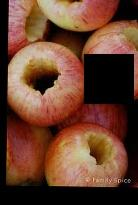rotten apple: (7, 41, 81, 121), (86, 127, 117, 170)
